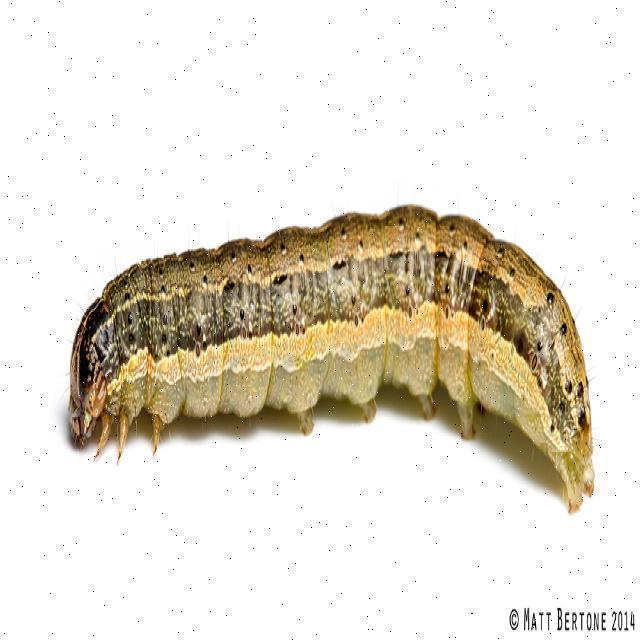army worm: (28, 160, 600, 525)
